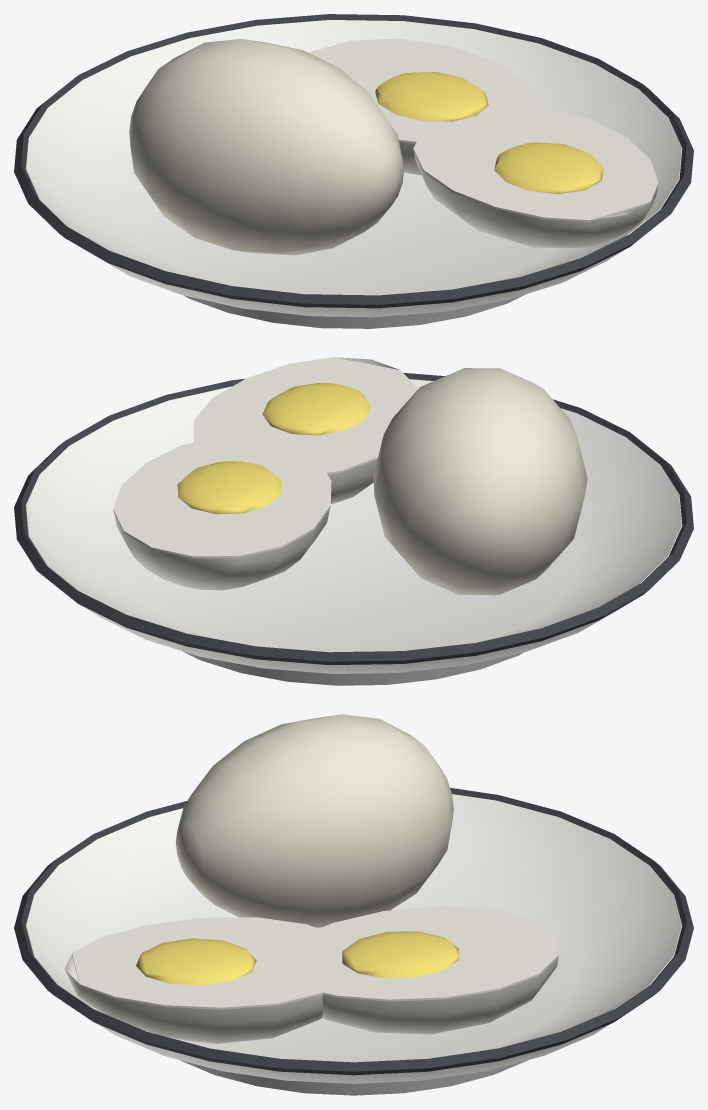
File: cook_boiled_egg.glb
3 renders of one model, top to bottom at view 1: azimuth 30°, elevation 25°; view 2: azimuth 150°, elevation 25°; view 3: azimuth 270°, elevation 25°, orthographic.
Parts seen in each view (by area): view 1: body; view 2: body; view 3: body.
Boxes of the visible parts, <box> form: body: <box>14,14,693,328</box>; body: <box>14,357,693,685</box>; body: <box>14,714,693,1095</box>.
Bounding box in the file's own units: 0.0668 × 0.0237 × 0.0668.
